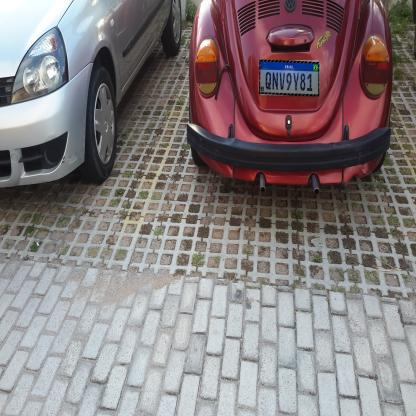PlacaM: (259, 60, 319, 96)
